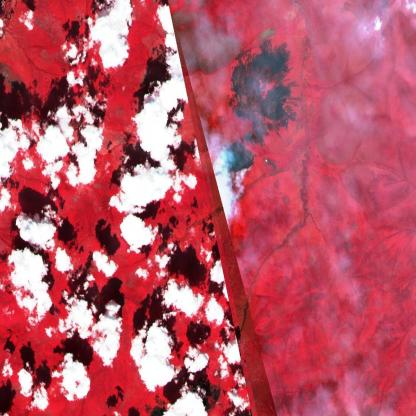fire: (216, 135, 258, 179)
